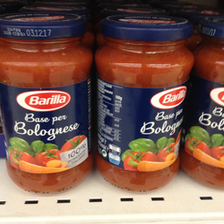tomato_sauce: (94, 11, 195, 193), (1, 9, 95, 196)
